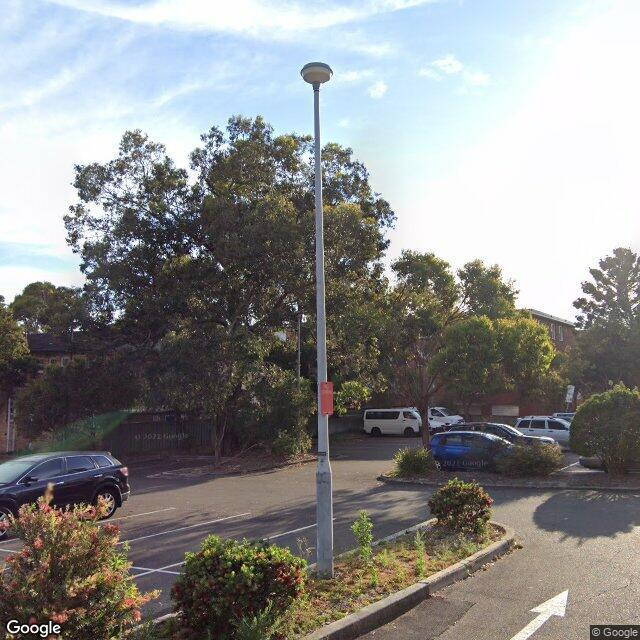steel-pole: (314, 92, 334, 580)
streetlight: (300, 62, 334, 92)
